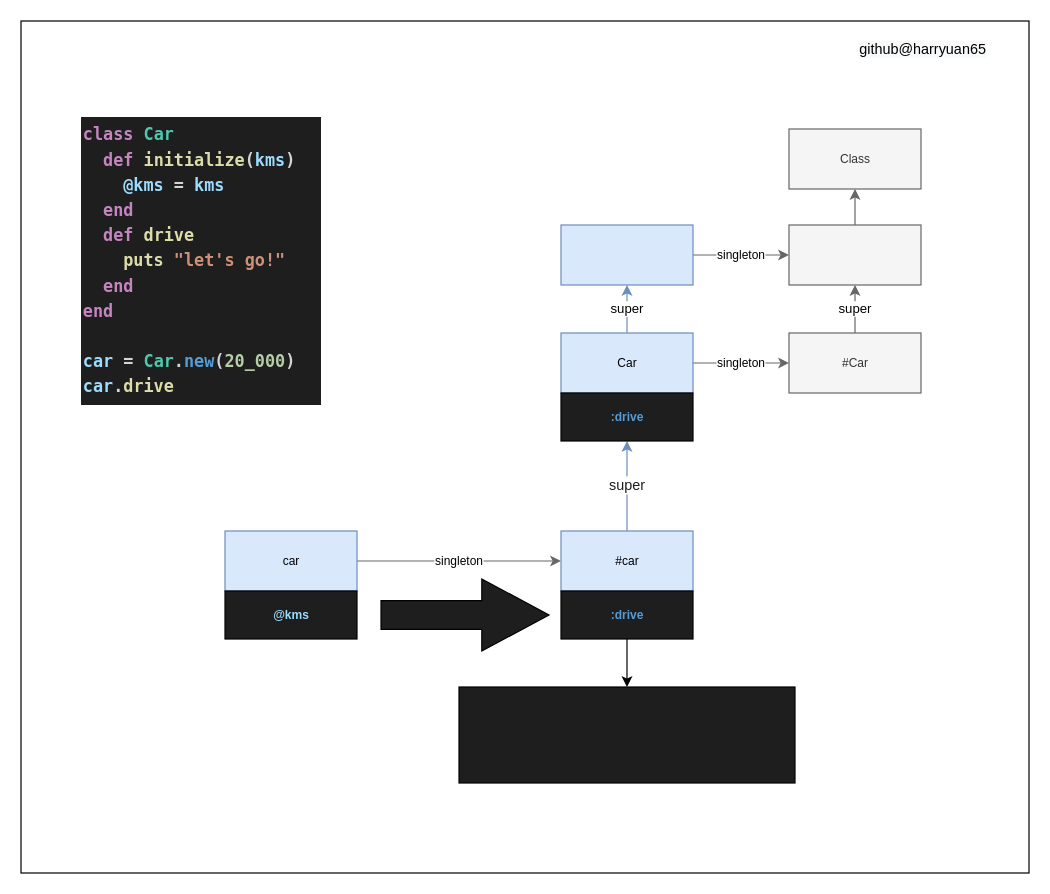
This 1050x894 diagram has some shape labels left out. The shapes that lost their labels are listed below. From the top down, each one's centre as x and y in pixels, then its label:
point (626, 254): Object
point (854, 254): # Object
point (464, 614): car . drive
point (626, 734): car . class . instance_methods( false ) car . singleton_class . instance_methods
